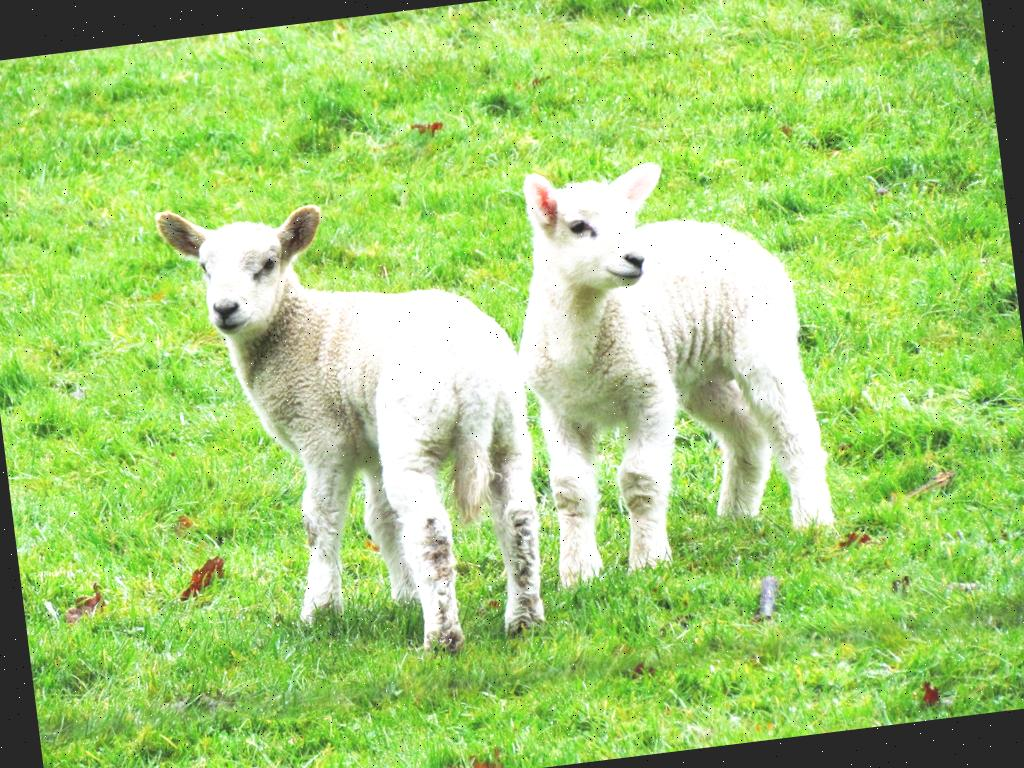Sheep: (152, 168, 552, 688), (496, 140, 840, 593)
